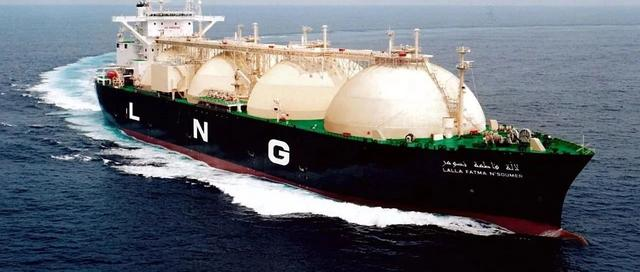Cargoship: (76, 2, 602, 246)
